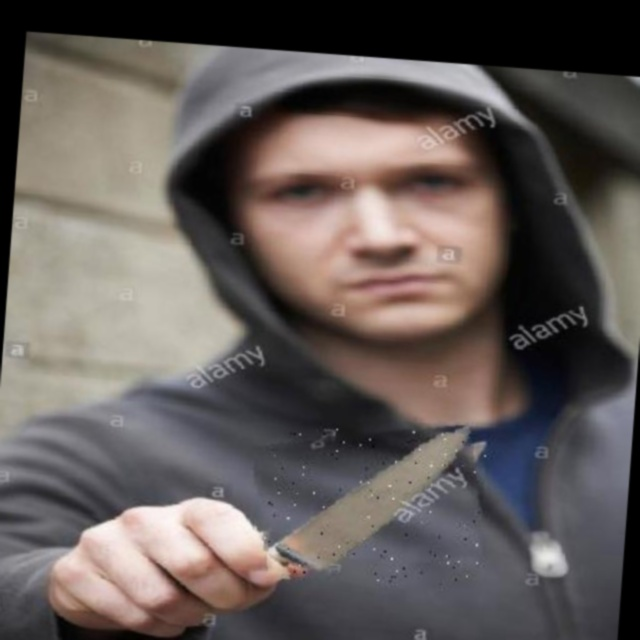Sharp-Object: (248, 418, 488, 588)
